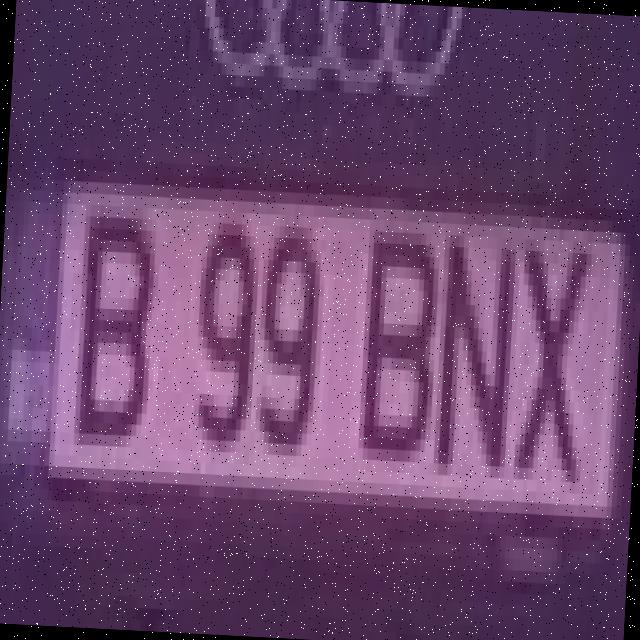Autre: (0, 168, 628, 527)
